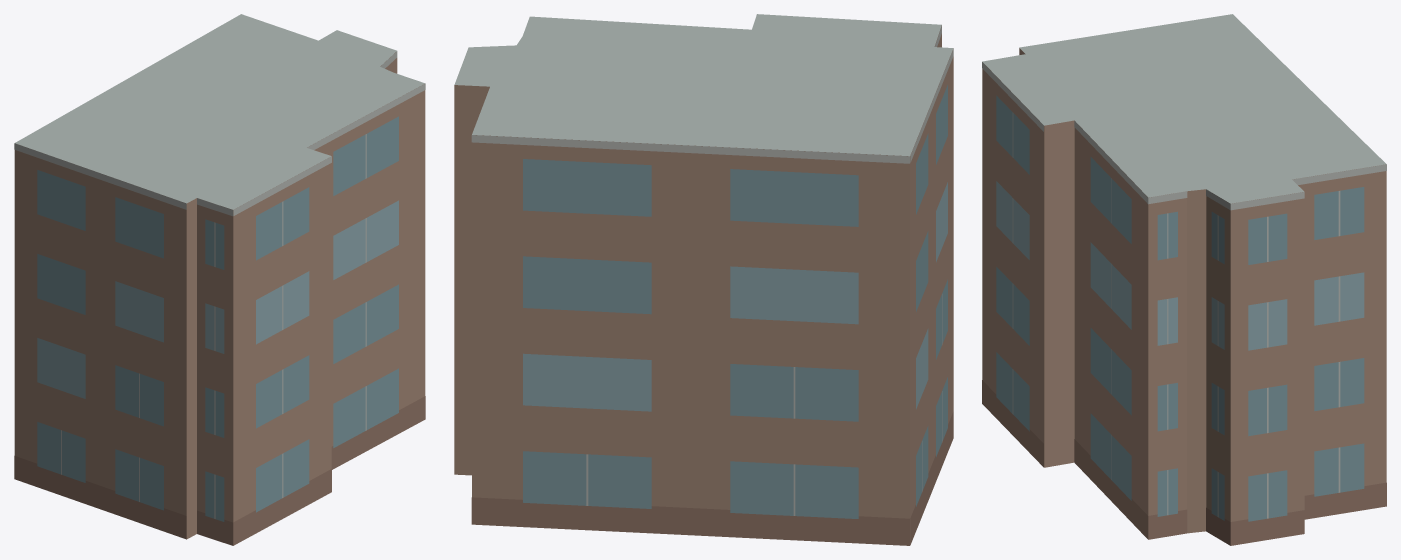
Rendered from survey-upis-32853827.glb.
3 views of the same model, side by side, from view 1: azimuth 30°, elevation 25°; view 2: azimuth 150°, elevation 25°; view 3: azimuth 270°, elevation 25° (orthographic). The views are drawn at different scales.
Visible parts, largest first — view 1: survey-upis-32853827.tmp; view 2: survey-upis-32853827.tmp; view 3: survey-upis-32853827.tmp.
Part boxes in pixels (left/top/right/bottom): survey-upis-32853827.tmp: left=14, top=14, right=425, bottom=545; survey-upis-32853827.tmp: left=454, top=14, right=953, bottom=545; survey-upis-32853827.tmp: left=982, top=14, right=1386, bottom=545.
Size of the model in its own units: 14.87 by 12.5 by 13.41.
